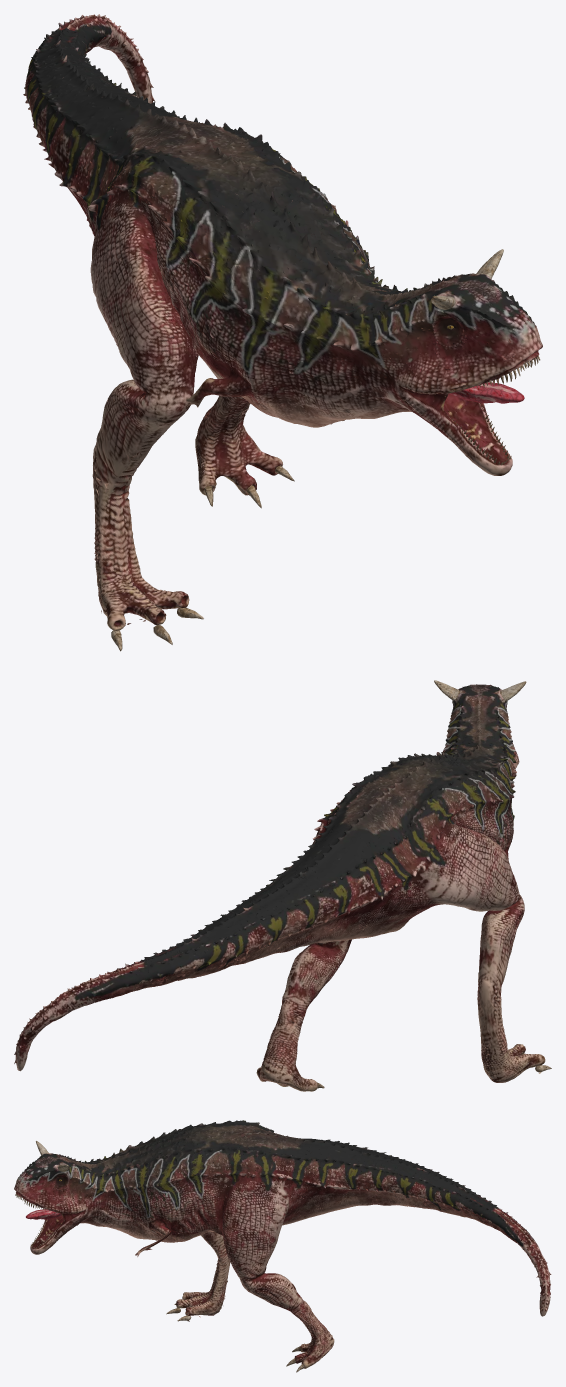
File: carnotaurus.glb
The picture shows the model from 3 angles, top to bottom: view 1: azimuth 30°, elevation 25°; view 2: azimuth 150°, elevation 25°; view 3: azimuth 270°, elevation 25°; orthographic projection. The views are drawn at different scales.
Parts seen in each view (by area): view 1: Object_2, Object_3, Object_9, Object_5; view 2: Object_2, Object_3, Object_7; view 3: Object_2, Object_3.
Part boxes in pixels (x1=…): Object_2: x1=23, y1=14, x2=542, y2=631; Object_3: x1=31, y1=15, x2=531, y2=624; Object_9: x1=420, y1=368, x2=524, y2=403; Object_5: x1=111, y1=465, x2=294, y2=651; Object_2: x1=14, y1=684, x2=545, y2=1091; Object_3: x1=15, y1=685, x2=541, y2=1079; Object_7: x1=434, y1=680, x2=526, y2=701; Object_2: x1=14, y1=1120, x2=550, y2=1368; Object_3: x1=25, y1=1122, x2=551, y2=1356.
Size of the model in its own units: 3.39 by 3.43 by 7.85.
7 materials, 7 textured.
